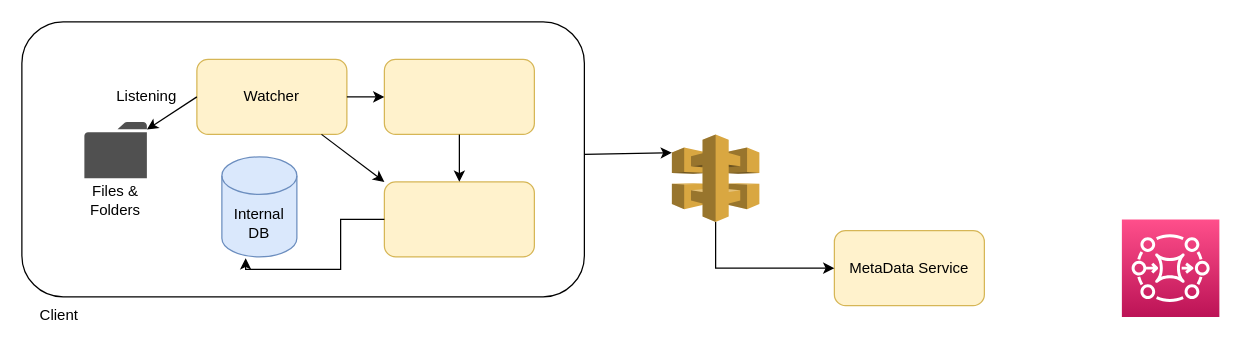
Some shapes in this 1241 by 356 pixel diagram are drawn without their labels. Each missing label, with the box of its shape:
Chunker: (383, 58, 534, 134)
Indexer: (383, 181, 534, 257)
